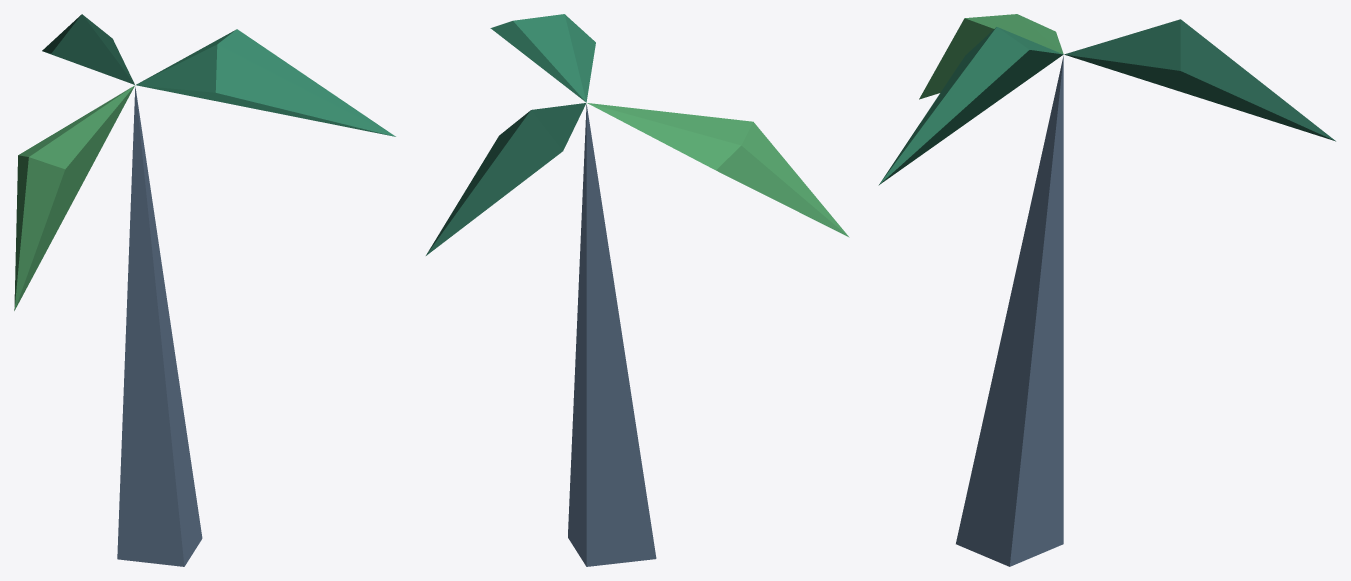
File: PalmTree.fbx
3 views of the same model, side by side, from view 1: azimuth 30°, elevation 25°; view 2: azimuth 150°, elevation 25°; view 3: azimuth 270°, elevation 25° (orthographic). The views are drawn at different scales.
Visible parts, largest first — view 1: Palm Leaves, Palm Trunk; view 2: Palm Trunk, Palm Leaves; view 3: Palm Trunk, Palm Leaves.
Boxes of the visible parts, box(x1,y1,x2,y2) form: Palm Leaves: box(14, 14, 395, 310); Palm Trunk: box(117, 87, 202, 566); Palm Trunk: box(568, 104, 656, 566); Palm Leaves: box(426, 14, 849, 255); Palm Trunk: box(956, 56, 1063, 566); Palm Leaves: box(878, 14, 1335, 185).
Bounding box in the file's own units: 1707 × 2226 × 1697.
